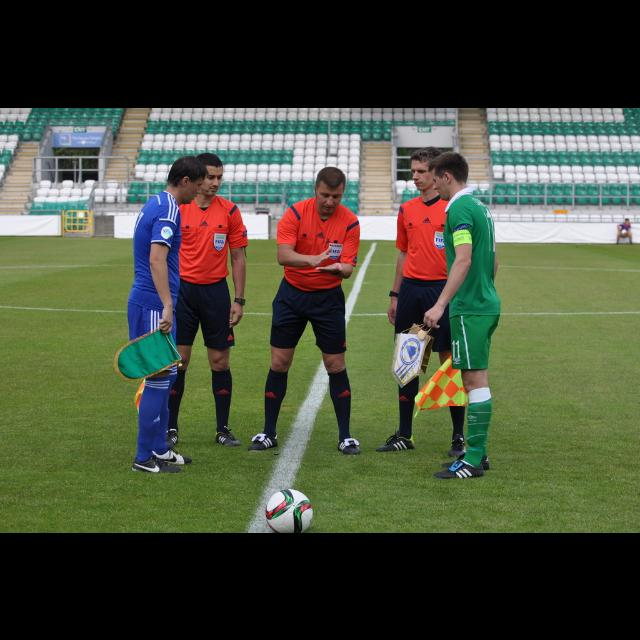Football: (264, 488, 314, 532)
